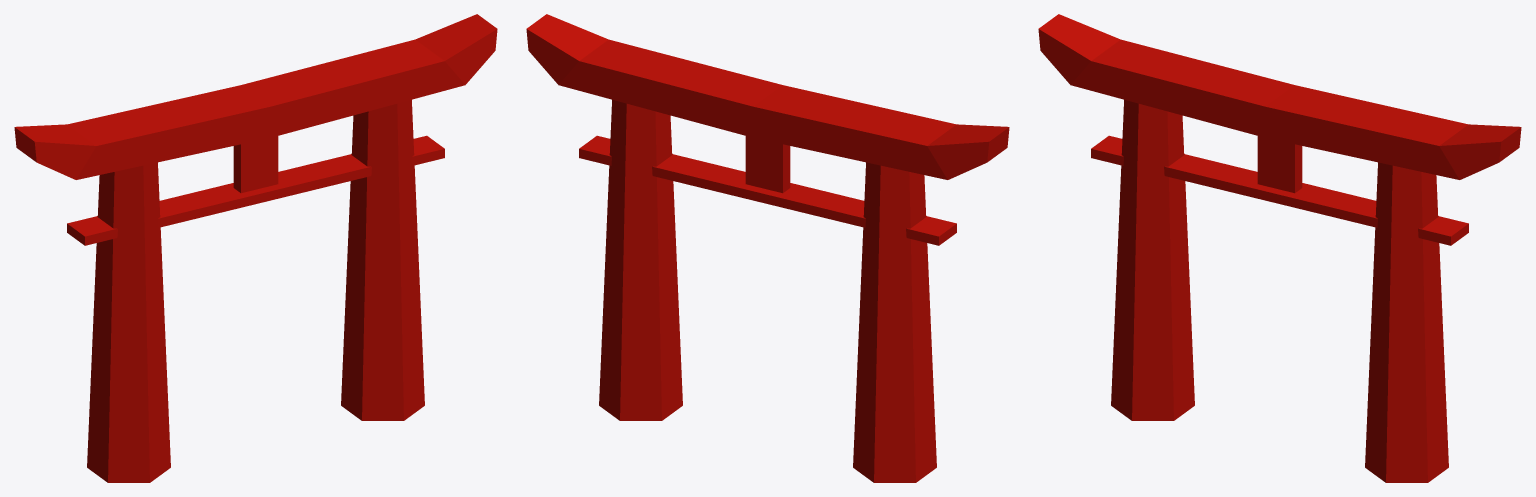
File: tori.fbx
3 views of the same model, side by side, from view 1: azimuth 30°, elevation 25°; view 2: azimuth 150°, elevation 25°; view 3: azimuth 330°, elevation 25° (orthographic).
Visible parts, largest first — view 1: Tori; view 2: Tori; view 3: Tori.
Boxes of the visible parts, box(x1,y1,x2,y2) form: Tori: box(14, 14, 497, 482); Tori: box(526, 14, 1009, 482); Tori: box(1038, 14, 1521, 482).
Size of the model in its own units: 834 by 617 by 131.
1 material, 1 textured.
